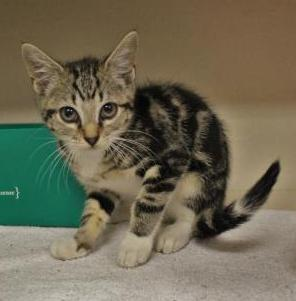bengal: (16, 15, 150, 165)
